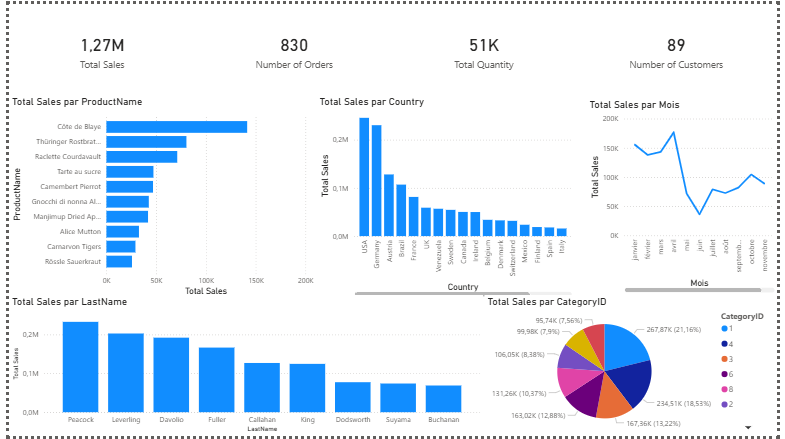

The dashboard page shown, as its layout file describes it:
{"tool":"powerbi","page":{"name":"Page 1","canvas":[1280,720],"ordinal":0},"visuals":[{"type":"card","fields":{"Values":["FactSales.Total Sales"]},"box":[0,0,310,152],"z":0},{"type":"card","fields":{"Values":["FactSales.Total Quantity"]},"box":[640,0,302,152],"z":1000},{"type":"card","fields":{"Values":["FactSales.Number of Orders"]},"box":[310,0,330,152],"z":2000},{"type":"card","fields":{"Values":["FactSales.Number of Customers"]},"box":[941.4,0,338.6,152.9],"z":3000},{"type":"clusteredBarChart","fields":{"Category":["DimProducts.ProductName"],"Y":["FactSales.Total Sales"]},"box":[0,152.9,512.9,338.6],"z":4000},{"type":"clusteredColumnChart","fields":{"Category":["DimCustomers.Country"],"Y":["FactSales.Total Sales"]},"box":[512,152,430,340],"z":5000},{"type":"clusteredColumnChart","fields":{"Category":["DimEmployees.LastName"],"Y":["FactSales.Total Sales"]},"box":[0,486,790,234],"z":6000},{"type":"pieChart","fields":{"Category":["DimProducts.CategoryID"],"Y":["FactSales.Total Sales"]},"box":[792,486,488,234],"z":6001},{"type":"lineChart","fields":{"Category":["FactSales.OrderDate.Variation.Hiérarchie de dates.Mois"],"Y":["FactSales.Total Sales"]},"box":[962,158,318,328],"z":6002}]}

Visuals, with their boxes in screenshot pixels (x1, y1, x2, y2), scaled from the page's 1280x720 canvas onto the 785x439 screenshot:
card - FactSales.Total Sales: 0/0/190/93
card - FactSales.Total Quantity: 392/0/578/93
card - FactSales.Number of Orders: 190/0/392/93
card - FactSales.Number of Customers: 577/0/784/93
clusteredBarChart - DimProducts.ProductName x FactSales.Total Sales: 0/93/315/300
clusteredColumnChart - DimCustomers.Country x FactSales.Total Sales: 314/93/578/300
clusteredColumnChart - DimEmployees.LastName x FactSales.Total Sales: 0/296/484/438
pieChart - DimProducts.CategoryID x FactSales.Total Sales: 486/296/784/438
lineChart - FactSales.OrderDate.Variation.Hiérarchie de dates.Mois x FactSales.Total Sales: 590/96/784/296
